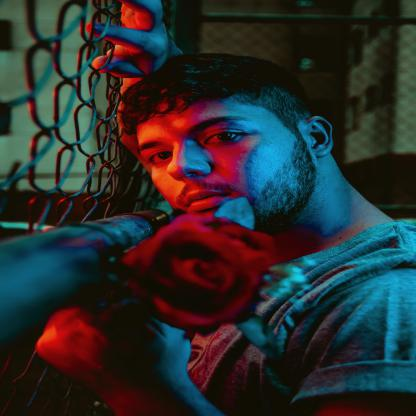Eye: (196, 125, 256, 147), (143, 144, 176, 167)
Mouth: (175, 183, 236, 212)
Nose: (166, 146, 217, 183)
